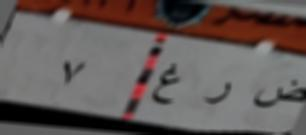7: (59, 54, 88, 100)
daad: (251, 70, 306, 127)
ghayn: (152, 60, 182, 112)
raa: (200, 76, 239, 113)
